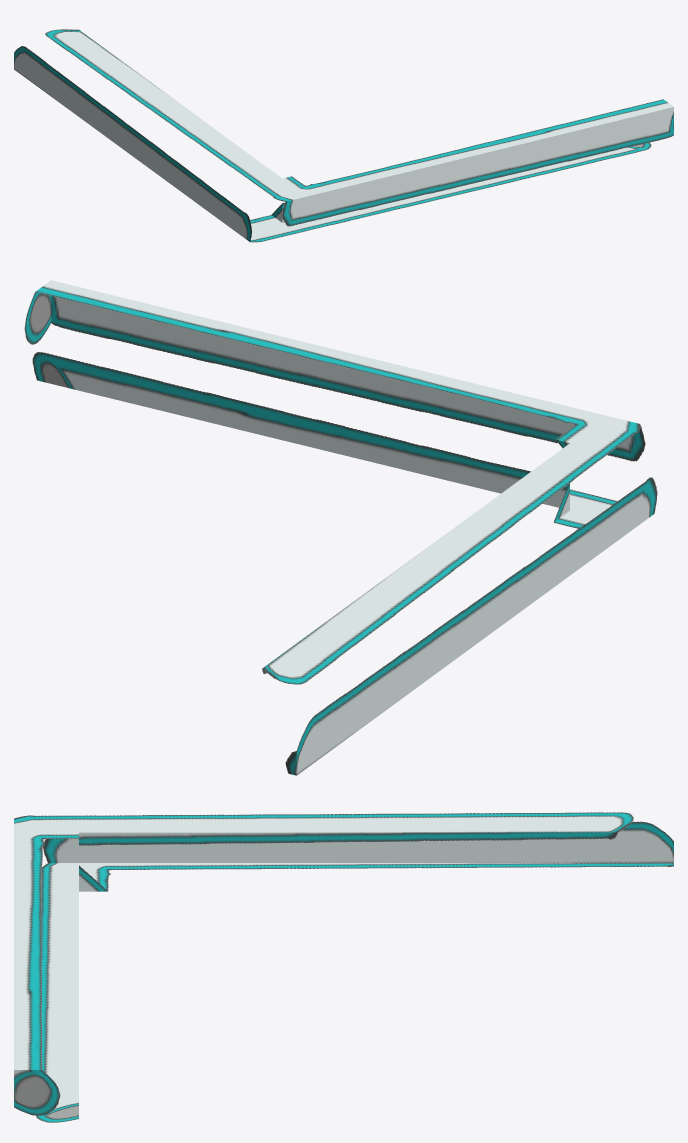
The picture shows the model from 3 angles, top to bottom: view 1: azimuth 30°, elevation 25°; view 2: azimuth 150°, elevation 25°; view 3: azimuth 270°, elevation 25°; orthographic projection. The views are drawn at different scales.
Visible parts, largest first — view 1: 立方体; view 2: 立方体; view 3: 立方体.
Boxes of the visible parts, x1,y1,x2,y2 form: 立方体: (14,29,673,242); 立方体: (24,280,657,775); 立方体: (14,812,673,1122).
Size of the model in its own units: 1191 by 123 by 1249.
